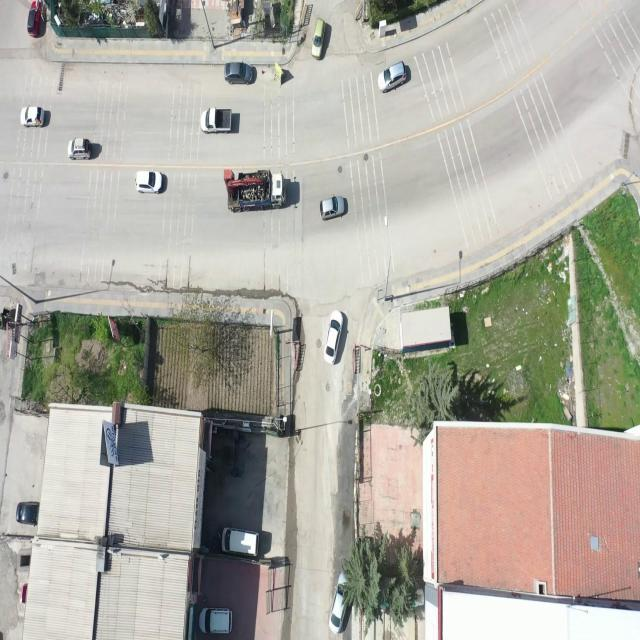p3rson: (217, 526, 222, 548)
